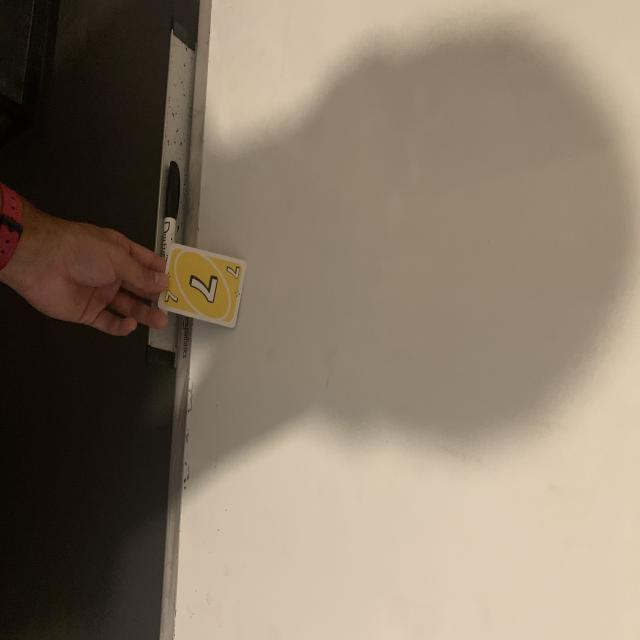lyellow-7: (161, 288, 182, 308)
